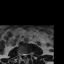CCS_stenosis: (24, 52, 26, 58)
LFS_stenosis: (28, 52, 29, 56)
LLS_stenosis: (26, 52, 27, 57)
RFS_stenosis: (20, 53, 22, 56)
RLS_stenosis: (22, 52, 24, 56)
